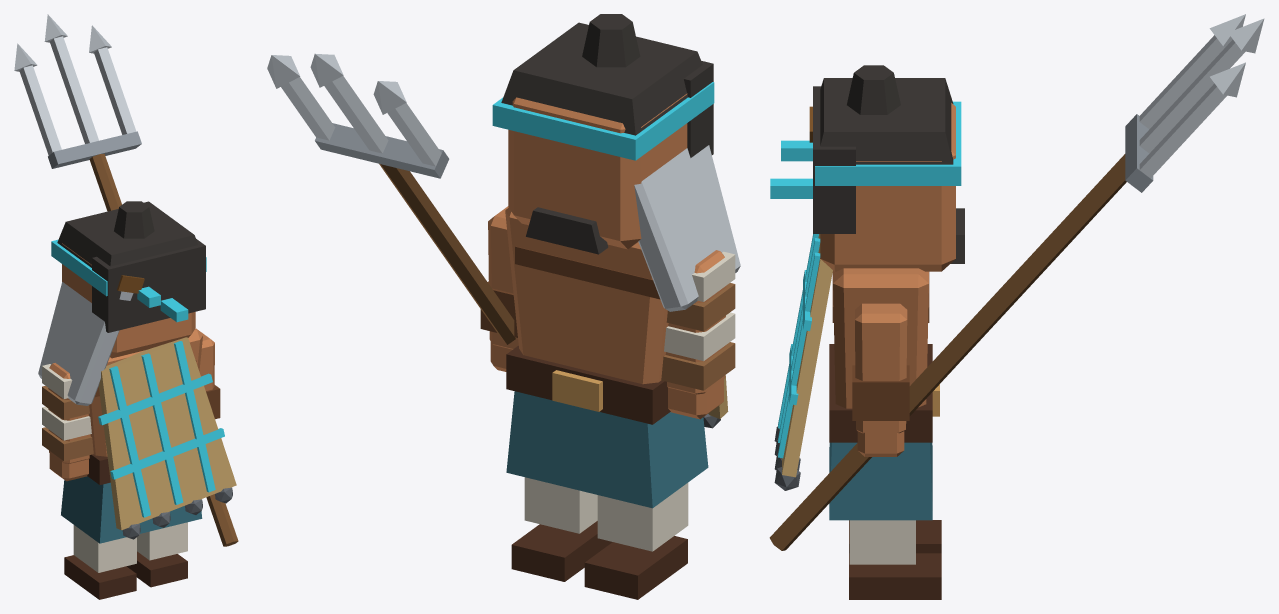
Rendered from CH_NetWeaver.fbx.
3 views of the same model, side by side, from view 1: azimuth 30°, elevation 25°; view 2: azimuth 150°, elevation 25°; view 3: azimuth 270°, elevation 25° (orthographic). The views are drawn at different scales.
Parts seen in each view (by area): view 1: Net, HairBack, Galerus, Hair, Skirt, Head, WrapL, SandalL, Shaft, Prong1, Bar, NetCordV1 (+26 smaller); view 2: Body, Skirt, Head, Hair, Galerus, Band, Belt, Shaft, SandalL, WrapL, SandalR, WrapR (+19 smaller); view 3: Head, Shaft, Hair, Body, Skirt, ArmR, SandalR, Band, HairBack, Net, WrapR, Belt (+14 smaller).
Part boxes in pixels (<box>): Net: <box>98,337,236,530</box>; HairBack: <box>92,239,205,332</box>; Galerus: <box>38,282,133,405</box>; Hair: <box>57,201,198,267</box>; Skirt: <box>61,476,202,543</box>; Head: <box>62,243,195,358</box>; WrapL: <box>73,525,136,572</box>; SandalL: <box>64,555,136,599</box>; Shaft: <box>89,153,238,546</box>; Prong1: <box>50,36,98,143</box>; Bar: <box>48,131,141,168</box>; NetCordV1: <box>141,353,183,504</box>; Body: <box>505,207,668,384</box>; Skirt: <box>506,391,708,508</box>; Head: <box>508,93,687,249</box>; Hair: <box>501,22,702,135</box>; Galerus: <box>634,145,740,311</box>; Band: <box>492,82,714,160</box>; Belt: <box>506,345,670,424</box>; Shaft: <box>379,164,515,344</box>; SandalL: <box>584,536,687,599</box>; WrapL: <box>597,482,688,551</box>; SandalR: <box>511,521,612,581</box>; WrapR: <box>524,477,597,533</box>; Head: <box>820,103,955,271</box>; Shaft: <box>769,154,1126,550</box>; Hair: <box>820,78,953,164</box>; Body: <box>833,268,928,408</box>; Skirt: <box>829,442,932,520</box>; ArmR: <box>855,303,907,433</box>; SandalR: <box>849,553,941,599</box>; Band: <box>815,101,961,185</box>; HairBack: <box>813,86,855,233</box>; Net: <box>782,234,832,477</box>; WrapR: <box>849,520,915,564</box>; Belt: <box>829,344,932,442</box>.
Size of the model in its own units: 0.8075 by 1.39 by 1.83.
